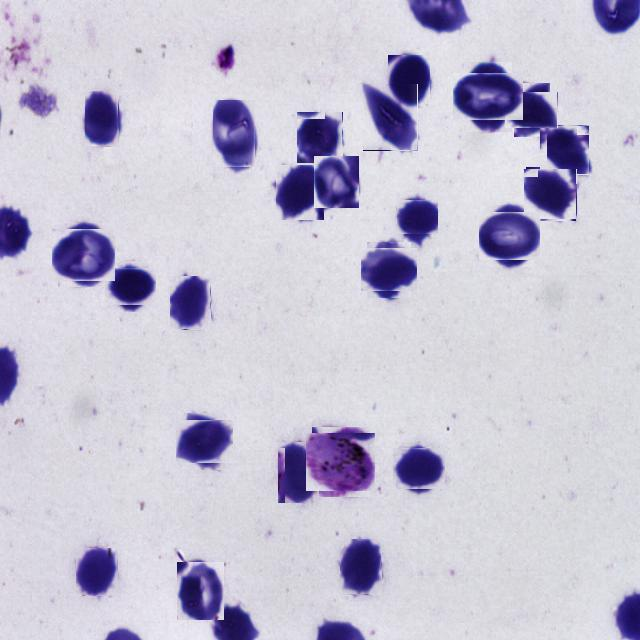gametocyte: (309, 430, 373, 494)
red blood cell: (363, 84, 418, 151), (458, 67, 518, 126), (55, 226, 113, 284), (482, 208, 538, 264), (213, 100, 256, 168), (177, 562, 224, 620), (525, 168, 577, 220), (276, 165, 324, 220), (278, 442, 320, 504), (179, 416, 229, 466), (364, 245, 414, 295), (540, 126, 590, 174), (297, 112, 343, 164), (340, 539, 382, 595), (314, 156, 359, 208), (170, 276, 211, 330), (388, 55, 430, 106), (396, 446, 442, 492), (76, 548, 118, 596), (510, 87, 554, 132), (108, 264, 152, 308), (85, 91, 119, 147), (398, 198, 436, 236)
